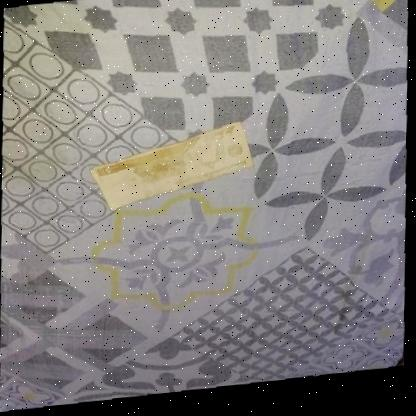five-back-vef: (88, 121, 255, 217)
